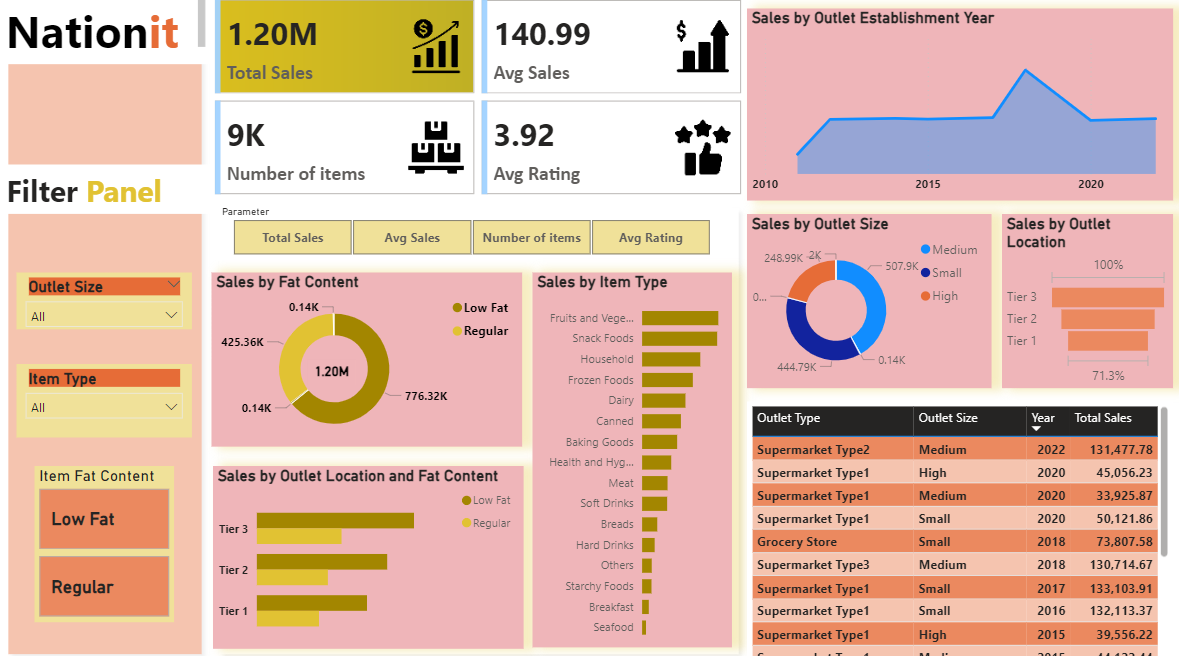

What the dashboard file says about the page in this screenshot:
{"tool":"powerbi","page":{"name":"Page 1","canvas":[1280,720],"ordinal":0},"visuals":[{"type":"shape","box":[0,0,226.7,720.6],"z":0},{"type":"textbox","box":[1.6,0,225.1,74.5],"z":1000},{"type":"cardVisual","fields":{"Data":["Key_measures.Total Sales","Key_measures.Avg Sales","Key_measures.Number of items","Key_measures.Avg Rating"]},"box":[226.7,0,563.5,210.5],"z":2000},{"type":"shape","box":[228.3,221.8,561.9,498.7],"z":3000},{"type":"donutChart","title":" Sales by Fat Content","fields":{"Y":["Key_measures.Total Sales","Key_measures.Avg Sales","Key_measures.Number of items","Key_measures.Avg Rating"],"Category":["BlinkIT Grocery Data.Item Fat Content"]},"box":[228.3,299.6,335.2,187.8],"z":4000},{"type":"slicer","fields":{"Values":["Parameter.Parameter"]},"box":[226.7,221.8,563.5,64.8],"z":5000},{"type":"clusteredBarChart","title":" Sales by Outlet Location and  Fat Content","fields":{"Y":["Key_measures.Total Sales"],"Series":["BlinkIT Grocery Data.Item Fat Content"],"Category":["BlinkIT Grocery Data.Outlet Location Type"]},"box":[229.9,508.4,335.2,197.5],"z":6000},{"type":"card","fields":{"Values":["Key_measures.Total Sales"]},"box":[331.9,393.5,64.8,27.5],"z":7000},{"type":"clusteredBarChart","title":"Sales by Item Type","fields":{"Category":["BlinkIT Grocery Data.Item Type"],"Y":["Key_measures.Total Sales"]},"box":[574.8,299.6,215.4,404.8],"z":8000},{"type":"areaChart","title":"Sales by Outlet Establishment Year","fields":{"Category":["BlinkIT Grocery Data.Outlet Establishment Year"],"Y":["Key_measures.Total Sales"]},"box":[806.4,14.6,459.9,207.3],"z":9000},{"type":"donutChart","title":"Sales by Outlet Size","fields":{"Y":["Key_measures.Total Sales","Key_measures.Avg Sales","Key_measures.Number of items","Key_measures.Avg Rating"],"Category":["BlinkIT Grocery Data.Outlet Size"]},"box":[806.4,236.4,263.9,187.8],"z":10000},{"type":"funnel","title":"Sales by Outlet Location","fields":{"Category":["BlinkIT Grocery Data.Outlet Location Type"],"Y":["Key_measures.Total Sales"]},"box":[1081.6,236.4,184.6,187.8],"z":11000},{"type":"tableEx","fields":{"Values":["BlinkIT Grocery Data.Outlet Type","BlinkIT Grocery Data.Outlet Size","BlinkIT Grocery Data.Outlet Establishment Year","Key_measures.Total Sales"]},"box":[806.4,438.8,459.9,281.7],"z":12000},{"type":"textbox","box":[1.6,183,204,53.4],"z":13000},{"type":"slicer","fields":{"Values":["BlinkIT Grocery Data.Outlet Size"]},"box":[17.8,299.6,189.4,61.5],"z":14000},{"type":"slicer","fields":{"Values":["BlinkIT Grocery Data.Item Type"]},"box":[17.8,398.3,189.4,79.3],"z":15000},{"type":"advancedSlicerVisual","fields":{"Values":["BlinkIT Grocery Data.Item Fat Content"]},"box":[37.2,508.4,150.6,168.4],"z":16000}]}

Visuals, with their boxes in screenshot pixels (x1, y1, x2, y2), scaled from the page's 1280x720 canvas onto the 1179x656 screenshot:
shape: bbox=(0, 0, 209, 655)
textbox: bbox=(1, 0, 209, 68)
cardVisual - Key_measures.Total Sales x Key_measures.Avg Sales: bbox=(209, 0, 728, 192)
shape: bbox=(210, 202, 728, 655)
" Sales by Fat Content" donutChart: bbox=(210, 273, 519, 444)
slicer - Parameter.Parameter: bbox=(209, 202, 728, 261)
" Sales by Outlet Location and  Fat Content" clusteredBarChart: bbox=(212, 463, 521, 643)
card - Key_measures.Total Sales: bbox=(306, 359, 365, 384)
"Sales by Item Type" clusteredBarChart: bbox=(529, 273, 728, 642)
"Sales by Outlet Establishment Year" areaChart: bbox=(743, 13, 1166, 202)
"Sales by Outlet Size" donutChart: bbox=(743, 215, 986, 386)
"Sales by Outlet Location" funnel: bbox=(996, 215, 1166, 386)
tableEx - BlinkIT Grocery Data.Outlet Type x BlinkIT Grocery Data.Outlet Size: bbox=(743, 400, 1166, 655)
textbox: bbox=(1, 167, 189, 215)
slicer - BlinkIT Grocery Data.Outlet Size: bbox=(16, 273, 191, 329)
slicer - BlinkIT Grocery Data.Item Type: bbox=(16, 363, 191, 435)
advancedSlicerVisual - BlinkIT Grocery Data.Item Fat Content: bbox=(34, 463, 173, 617)
